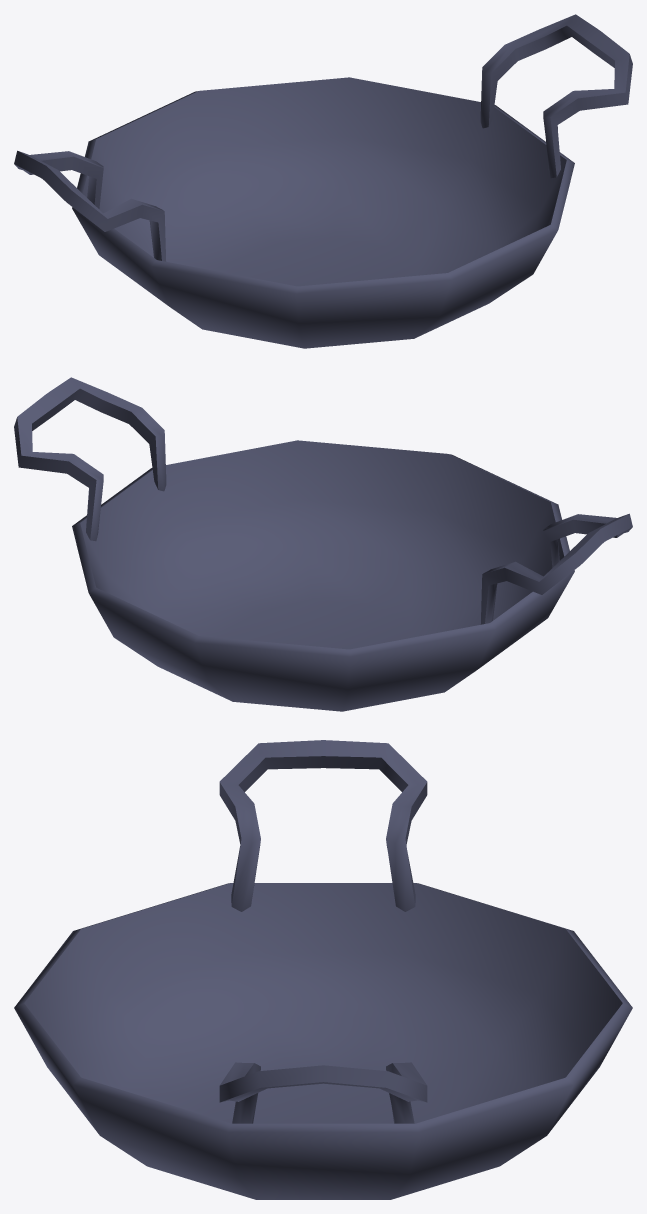
File: BigPan.fbx
3 renders of one model, top to bottom at view 1: azimuth 30°, elevation 25°; view 2: azimuth 150°, elevation 25°; view 3: azimuth 270°, elevation 25°, orthographic. The views are drawn at different scales.
Visible parts, largest first — view 1: BigPan; view 2: BigPan; view 3: BigPan.
Part boxes in pixels (<box>): BigPan: <box>14,14,632,348</box>; BigPan: <box>14,377,632,711</box>; BigPan: <box>14,740,632,1199</box>.
Size of the model in its own units: 126 by 39.69 by 98.67.
